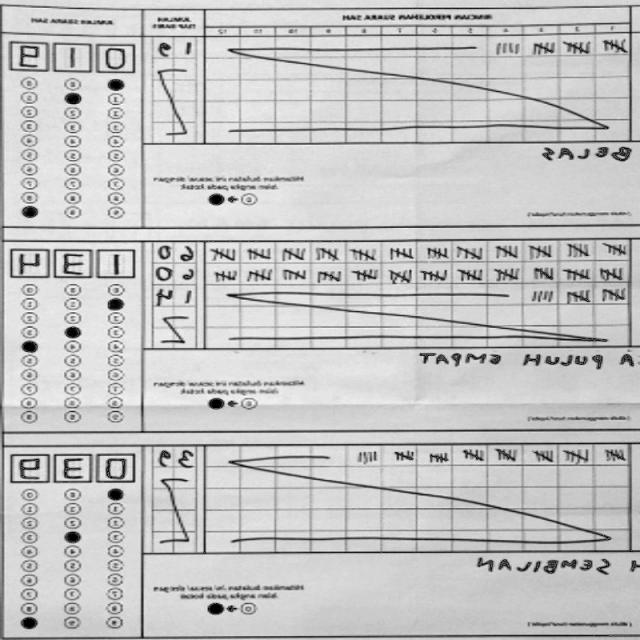Suara: (6, 240, 144, 281), (6, 40, 136, 74), (13, 450, 144, 482)
